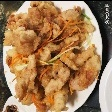guobaorou: (2, 3, 100, 112)
